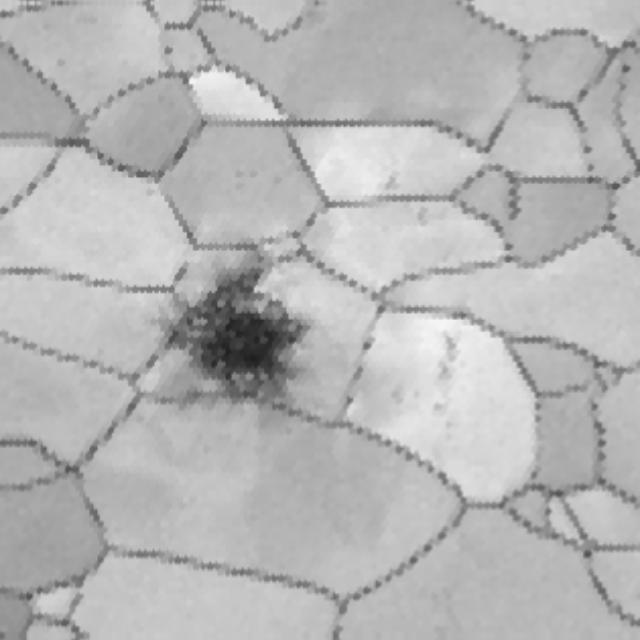good_void: (146, 245, 325, 433), (360, 329, 471, 439), (379, 174, 401, 193), (413, 207, 429, 232)
